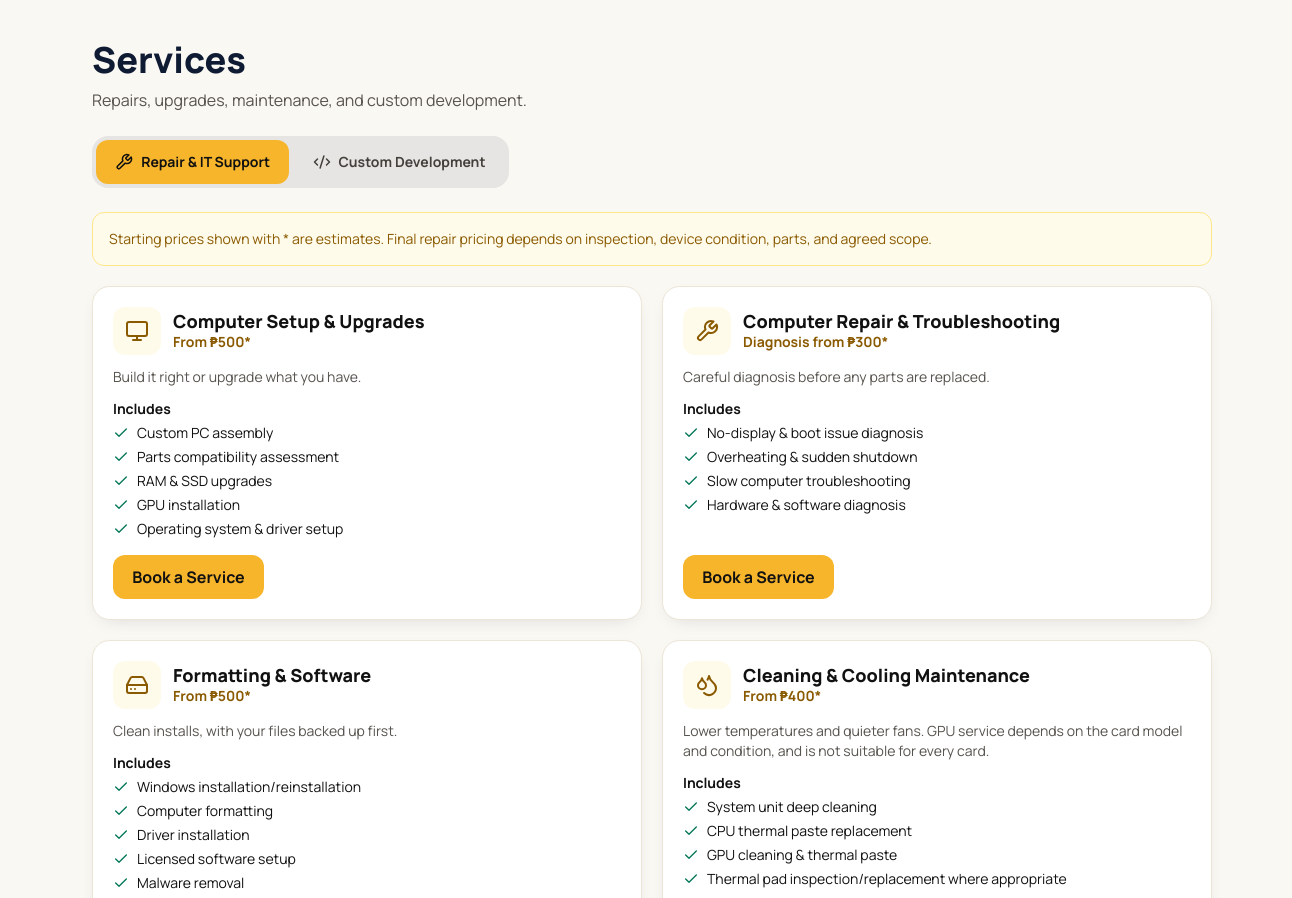
Scenario: defaults to five repair groups and persists development in the route
The width and height of the screenshot is (1292, 898).
Expected: the heading "Automation & AI" is not shown
Click the tab "Custom Development". click: {"x": 399, "y": 162}
box: top-left (293, 140), bottom-right (505, 184)
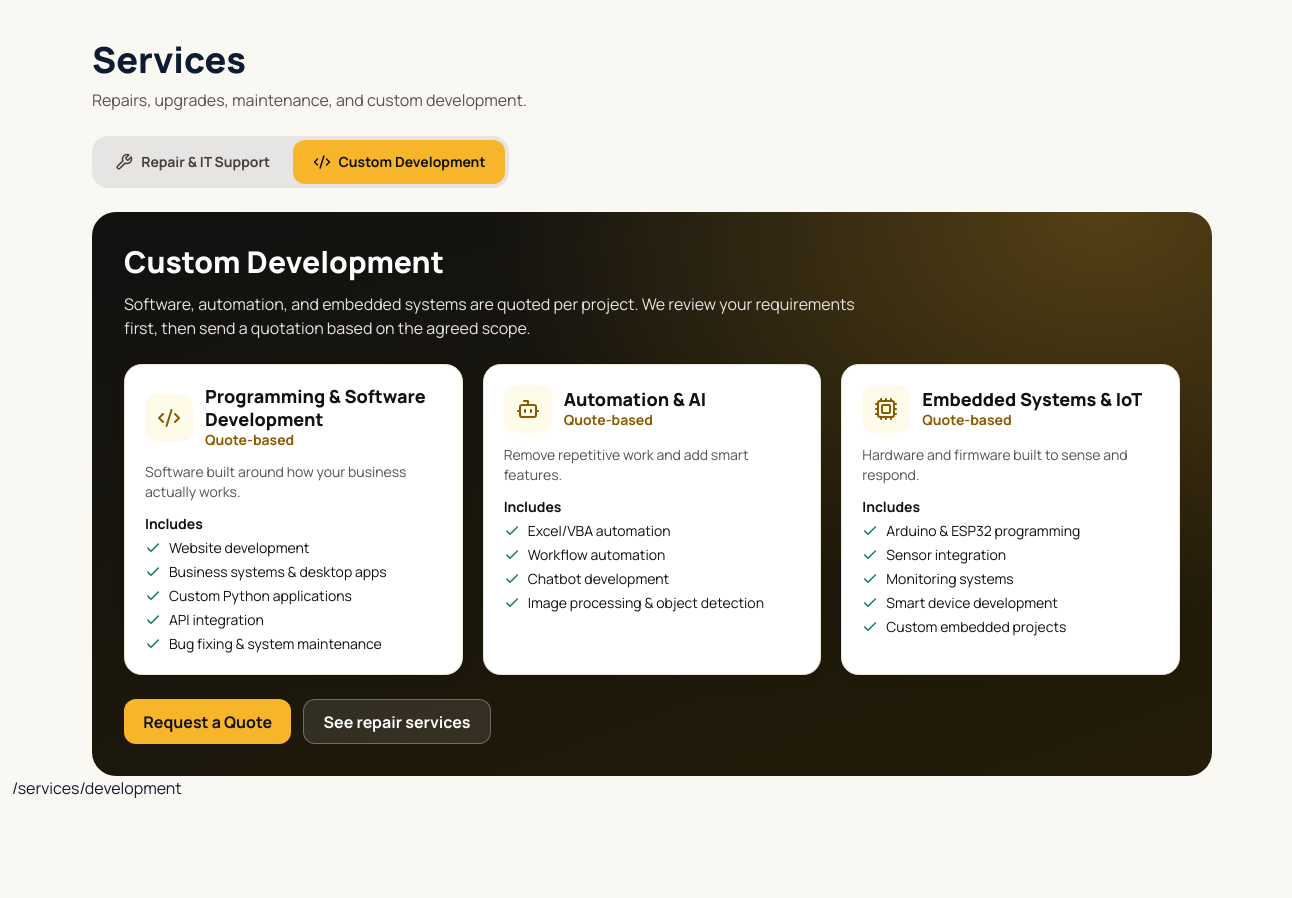
Expected: the text named "Current path" reads "/services/development", top-left (12, 777), bottom-right (182, 799)
Expected: the button "Book a Service" is gone
Expected: the number of buttons "Request a Quote" is 1, top-left (124, 699), bottom-right (291, 744)
